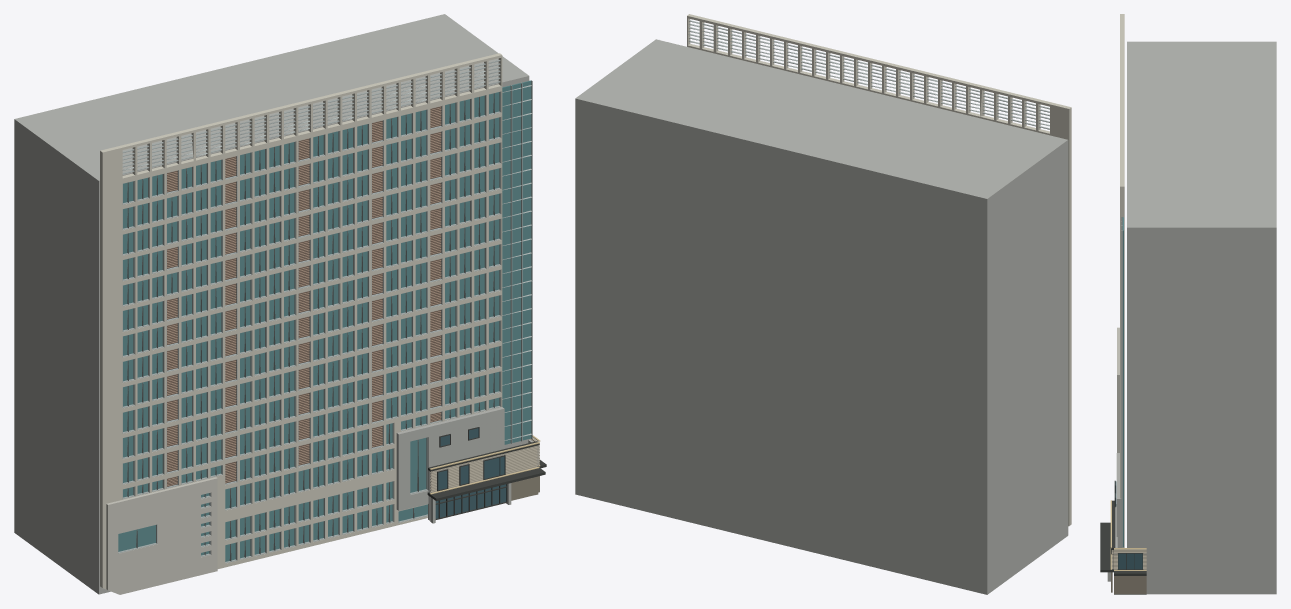
File: light.glb
3 views of the same model, side by side, from view 1: azimuth 30°, elevation 25°; view 2: azimuth 150°, elevation 25°; view 3: azimuth 270°, elevation 25° (orthographic). The views are drawn at different scales.
Parts seen in each view (by area): view 1: F_web_material_group_02, F_web_material_group_00, F_web_material_group_05, F_web_material_group_01, F_web_material_group_03, F_web_material_group_04, F_web_material_group_08, F_web_material_group_07, F_web_material_group_06, F_web_material_group_12; view 2: F_web_material_group_05, F_web_material_group_00, F_web_material_group_01; view 3: F_web_material_group_05, F_web_material_group_00, F_web_material_group_07, F_web_material_group_01, F_web_material_group_13, F_web_material_group_08, F_web_material_group_06, F_web_material_group_04, F_web_material_group_02, F_web_material_group_12.
Part boxes in pixels (x1=…): F_web_material_group_02: x1=118, y1=80, x2=531, y2=561; F_web_material_group_00: x1=100, y1=53, x2=502, y2=589; F_web_material_group_05: x1=14, y1=14, x2=529, y2=594; F_web_material_group_01: x1=118, y1=60, x2=532, y2=563; F_web_material_group_03: x1=167, y1=106, x2=441, y2=486; F_web_material_group_04: x1=106, y1=477, x2=217, y2=594; F_web_material_group_08: x1=396, y1=407, x2=538, y2=523; F_web_material_group_07: x1=427, y1=427, x2=546, y2=519; F_web_material_group_06: x1=435, y1=428, x2=506, y2=518; F_web_material_group_12: x1=430, y1=438, x2=539, y2=493; F_web_material_group_05: x1=575, y1=39, x2=1068, y2=594; F_web_material_group_00: x1=687, y1=14, x2=1071, y2=526; F_web_material_group_01: x1=688, y1=20, x2=1049, y2=129; F_web_material_group_05: x1=1127, y1=41, x2=1276, y2=594; F_web_material_group_00: x1=1120, y1=14, x2=1124, y2=547; F_web_material_group_07: x1=1100, y1=480, x2=1146, y2=575; F_web_material_group_01: x1=1121, y1=217, x2=1122, y2=547; F_web_material_group_13: x1=1111, y1=572, x2=1146, y2=593; F_web_material_group_08: x1=1107, y1=453, x2=1146, y2=594; F_web_material_group_06: x1=1115, y1=481, x2=1142, y2=569; F_web_material_group_04: x1=1117, y1=327, x2=1119, y2=452; F_web_material_group_02: x1=1122, y1=217, x2=1123, y2=547; F_web_material_group_12: x1=1111, y1=549, x2=1146, y2=569.
Size of the model in its own units: 30.09 by 29.05 by 11.77.
